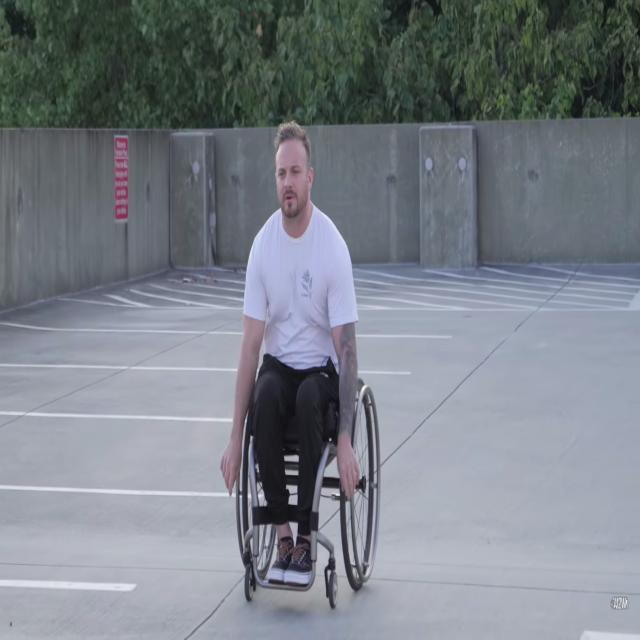wheelchairs: (221, 338, 382, 607)
